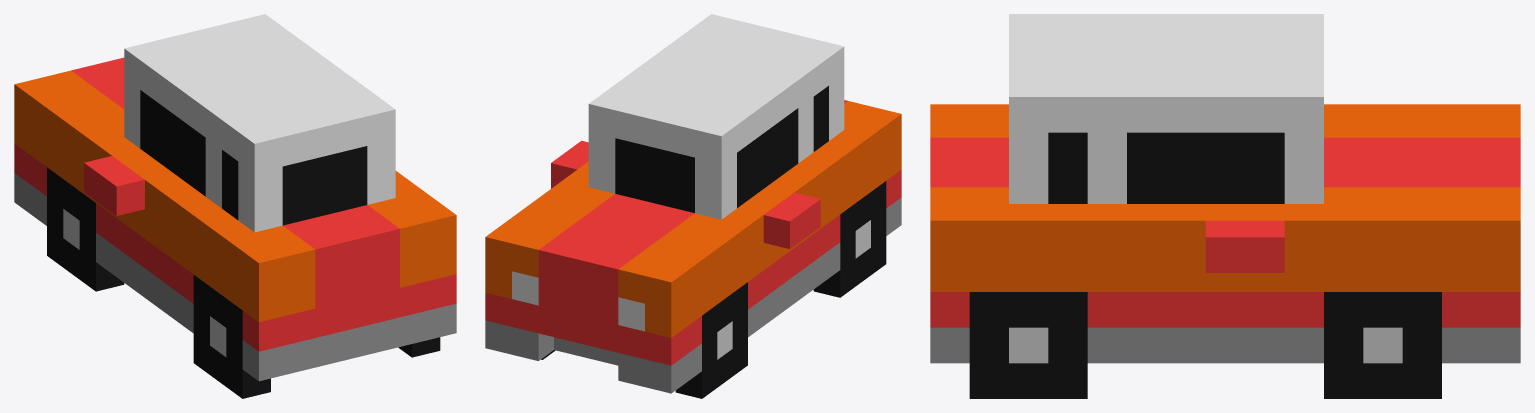
The model's file is OrangeCar.obj.
The picture shows the model from 3 angles, left to right: view 1: azimuth 30°, elevation 25°; view 2: azimuth 150°, elevation 25°; view 3: azimuth 270°, elevation 25°; orthographic projection. The views are drawn at different scales.
Parts seen in each view (by area): view 1: OrangeCar; view 2: OrangeCar; view 3: OrangeCar.
Boxes of the visible parts, x1,y1,x2,y2 form: OrangeCar: (14, 14, 456, 398); OrangeCar: (485, 14, 901, 398); OrangeCar: (930, 14, 1520, 398).
Bounding box in the file's own units: 9 × 8 × 15.
1 material, 1 textured.
